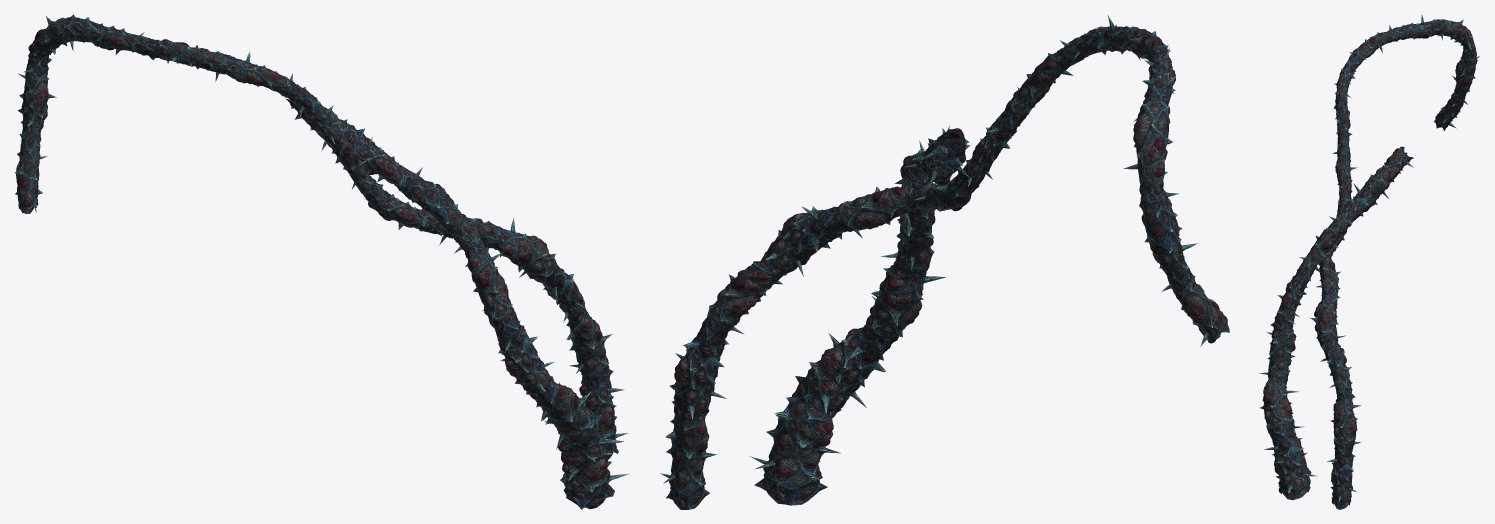
The model's file is backup.fbx.
3 renders of one model, left to right at view 1: azimuth 30°, elevation 25°; view 2: azimuth 150°, elevation 25°; view 3: azimuth 270°, elevation 25°, orthographic. The views are drawn at different scales.
Parts seen in each view (by area): view 1: LODGroup_1_MainMesh_1_SubMesh_1; view 2: LODGroup_1_MainMesh_1_SubMesh_1; view 3: LODGroup_1_MainMesh_1_SubMesh_1.
Part boxes in pixels (<box>): LODGroup_1_MainMesh_1_SubMesh_1: <box>14,14,629,509</box>; LODGroup_1_MainMesh_1_SubMesh_1: <box>660,14,1229,509</box>; LODGroup_1_MainMesh_1_SubMesh_1: <box>1258,14,1479,509</box>.
Size of the model in its own units: 1561 by 1420 by 828.
